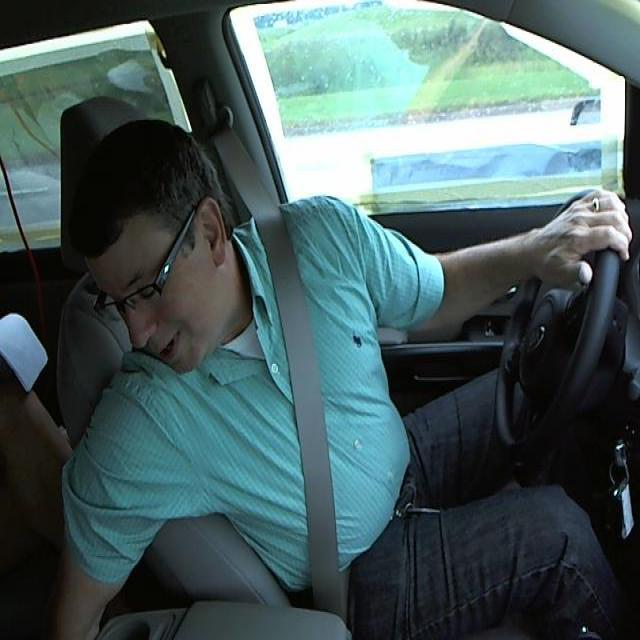seatbelt: (259, 243, 360, 608)
